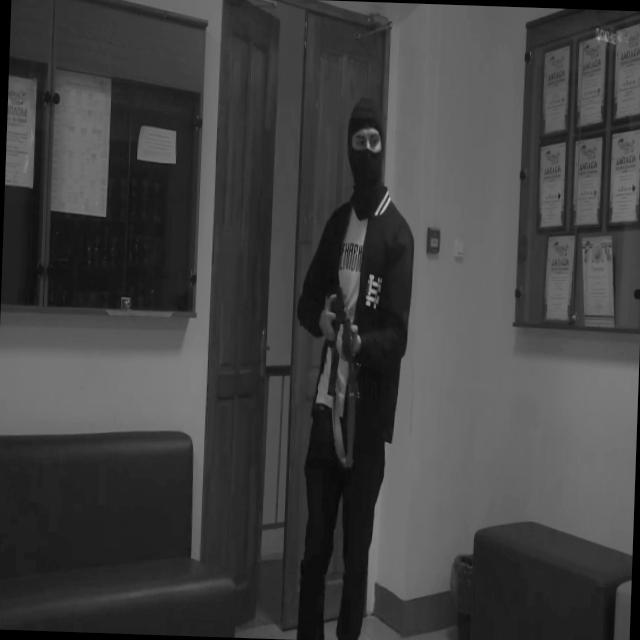gun: (319, 254, 366, 406)
person with a gun: (285, 94, 419, 640)
